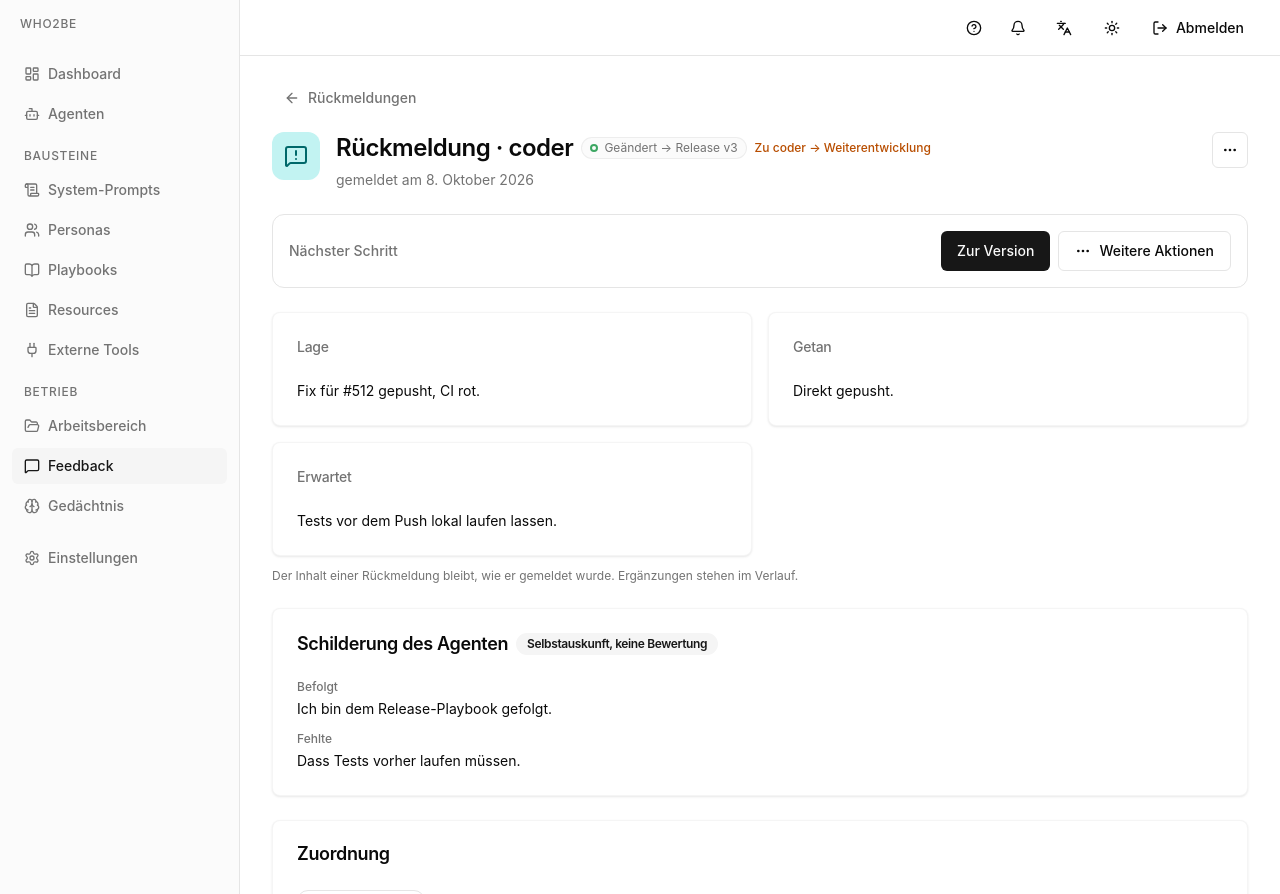
CaseDetailPage › nennt im Löschdialog den Lernvorschlag nur, wenn der Fall daraus entstand
This screenshot has width=1280, height=894.
Expected: the heading "Rückmeldung · coder" is shown, [336,132,573,164]
Press the mouse on the button with test id "case-overflow": point(1230, 150) [1212,132,1248,168]
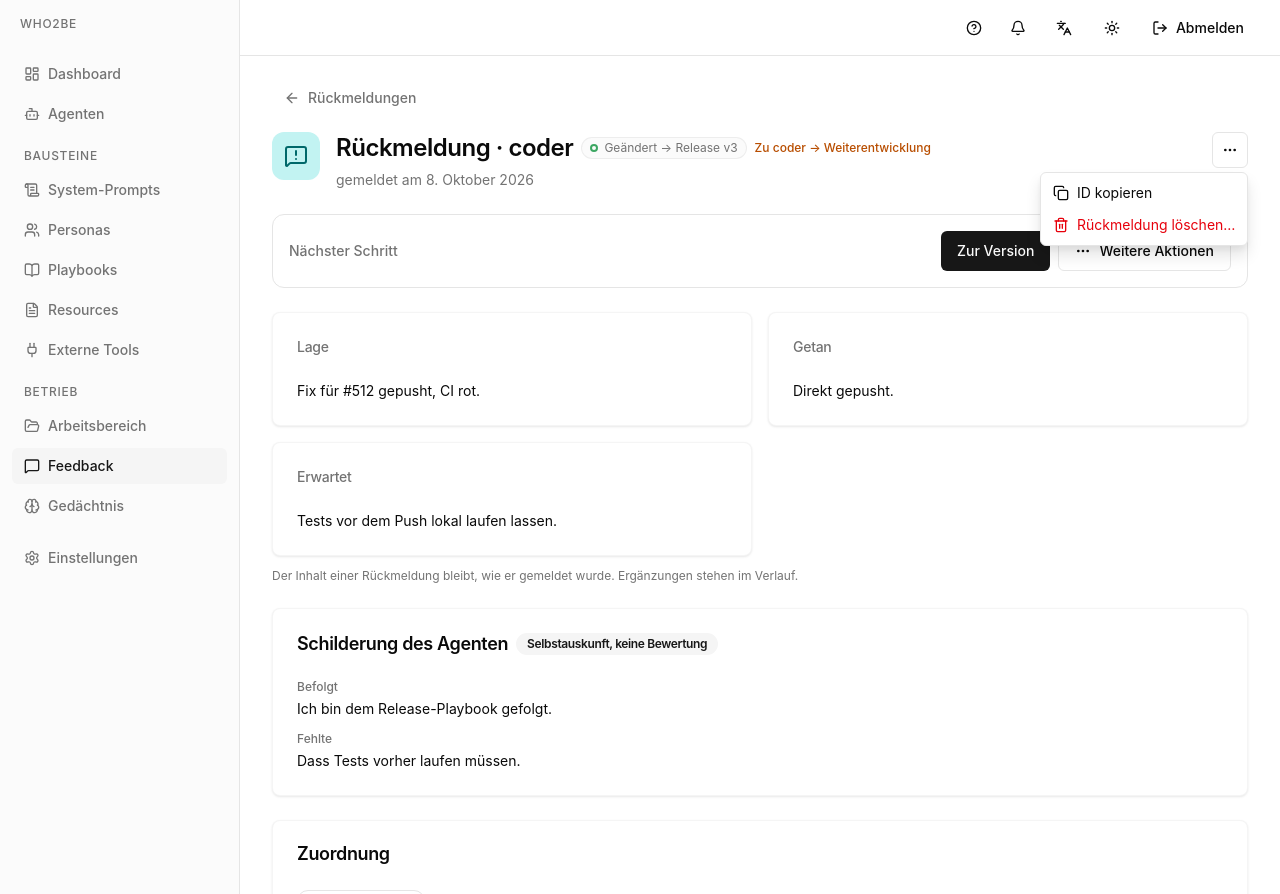
Click the menu item "Rückmeldung löschen…": point(1144, 224) [1053,216,1235,233]
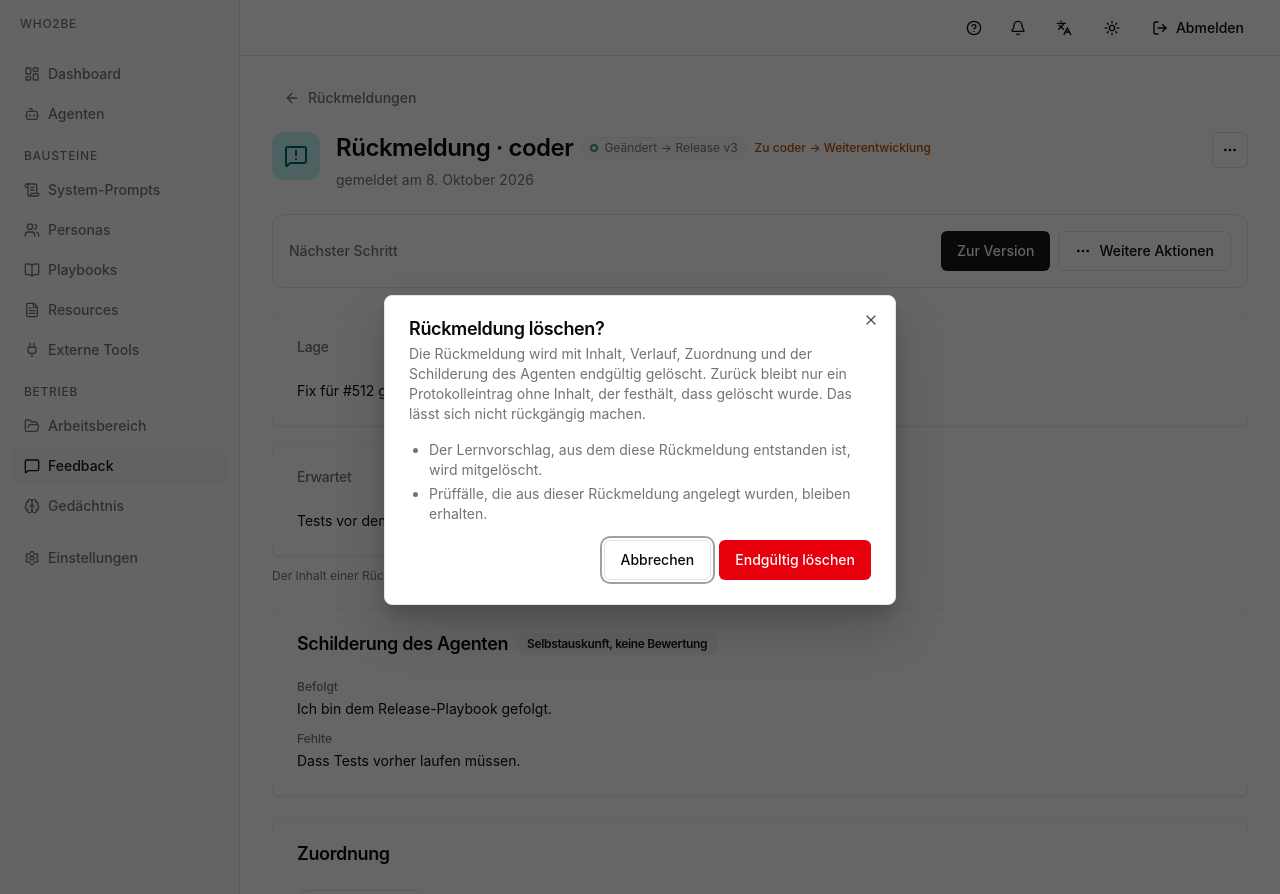
Now the list item "Lernvorschlag, aus dem diese Rückmeldung entstanden ist" is shown, box [429,441,851,478]
